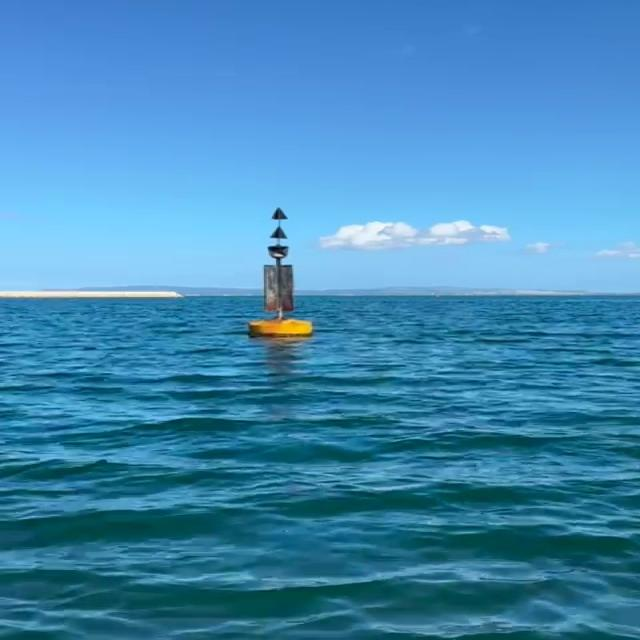marque: (245, 207, 320, 340)
